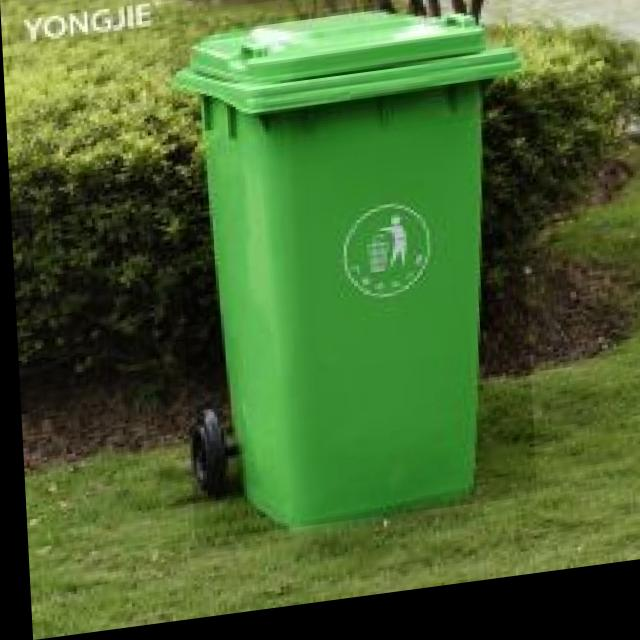garbage_bin: (168, 1, 531, 545)
